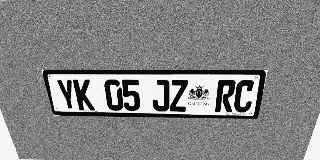0: (103, 79, 124, 111)
5: (121, 79, 141, 111)
C: (233, 80, 256, 112)
J: (152, 80, 169, 111)
K: (73, 79, 95, 110)
R: (215, 80, 237, 112)
Y: (55, 79, 78, 110)
Z: (170, 80, 188, 112)
